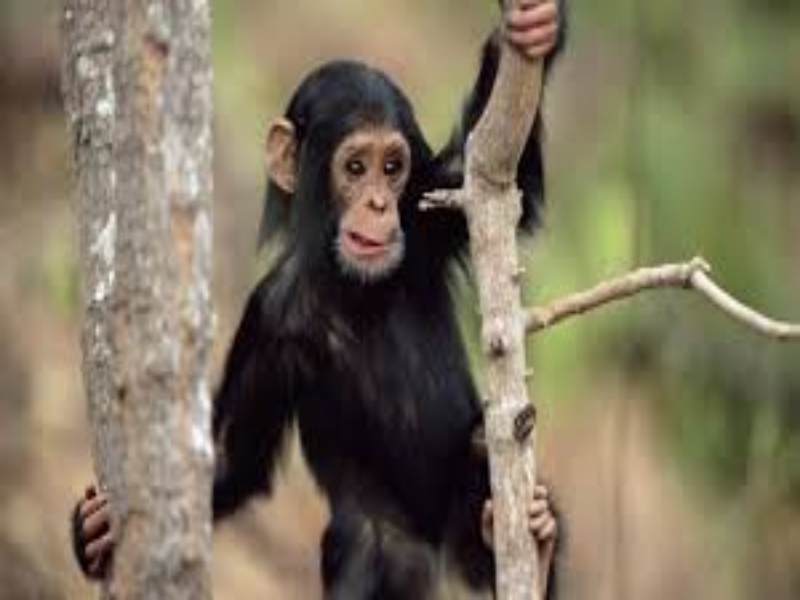monkey: (200, 53, 520, 572)
